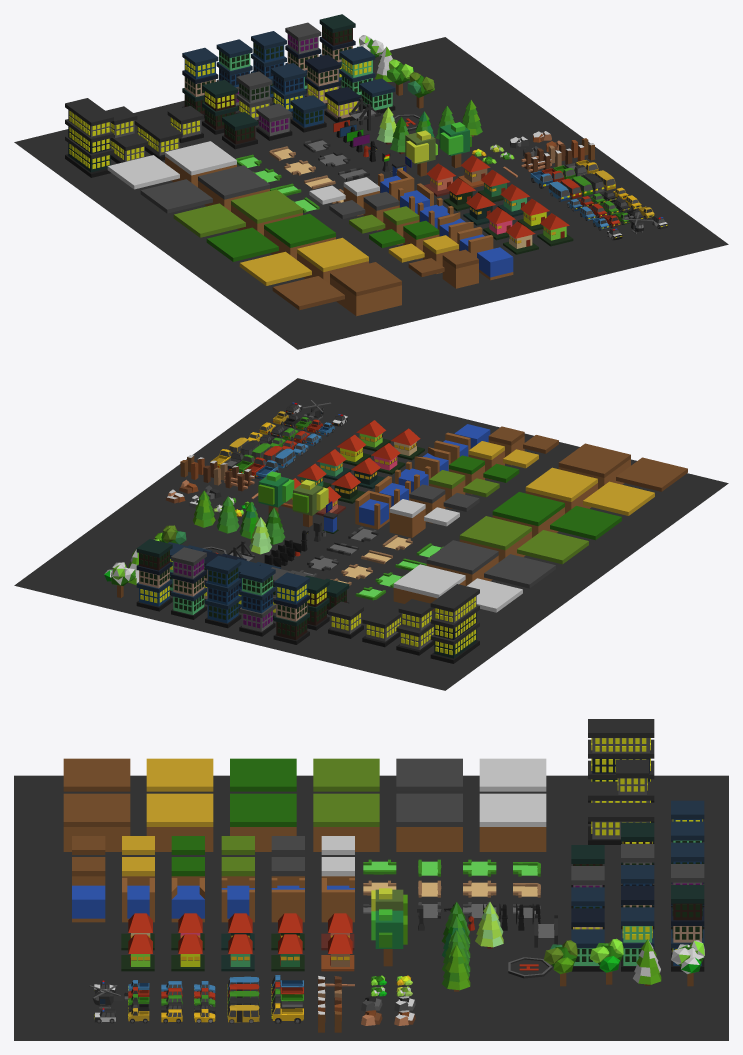
File: Platformer assets.fbx
3 views of the same model, one above another, from view 1: azimuth 30°, elevation 25°; view 2: azimuth 150°, elevation 25°; view 3: azimuth 270°, elevation 25° (orthographic). The views are drawn at different scales.
Parts seen in each view (by area): view 1: Plane, Building15, 4_Cube_soil, 4_Cube_yellowgrass, 4_Cube_rock, 4_Cube_sand, 4_Cube_grass, 4_Cube_snow, Building11, Building17, 4_Plane_sand, 4_Plane_soil (+46 smaller); view 2: Plane, Building15, Building13, Building11, Building14, Building16, Building12, 4_Cube_rock, 4_Cube_yellowgrass, 4_Cube_grass, 4_Cube_sand, 4_Cube_soil (+35 smaller); view 3: Plane, 4_Cube_snow, 4_Cube_rock, Building15, 4_Cube_yellowgrass, 4_Cube_soil, 4_Cube_sand, 4_Cube_grass, 4_Plane_soil, 4_Plane_sand, 4_Plane_snow, 4_Plane_grass (+57 smaller).
Part boxes in pixels (x1,y1,x2,y2): Plane: (14,37,728,349); Building15: (65,98,113,177); 4_Cube_soil: (330,262,401,316); 4_Cube_yellowgrass: (231,189,302,235); 4_Cube_rock: (198,165,269,211); 4_Cube_sand: (297,237,368,283); 4_Cube_grass: (264,213,335,259); 4_Cube_snow: (165,141,236,187); Building11: (182,47,218,118); Building17: (105,106,148,163); 4_Plane_sand: (239,251,311,285); 4_Plane_soil: (272,276,344,310); Plane: (14,378,728,690); Building15: (430,584,479,663); Building13: (205,555,241,628); Building11: (273,572,309,644); Building14: (171,547,206,619); Building16: (136,539,172,611); Building12: (239,564,275,636); 4_Cube_rock: (426,540,498,585); 4_Cube_yellowgrass: (459,516,531,561); 4_Cube_grass: (492,492,564,537); 4_Cube_sand: (525,467,597,513); 4_Cube_soil: (558,443,630,489); Plane: (14,775,728,1040); 4_Cube_snow: (479,793,546,851); 4_Cube_rock: (396,793,462,851); Building15: (588,719,654,802); 4_Cube_yellowgrass: (313,793,379,851); 4_Cube_soil: (63,793,130,851); 4_Cube_sand: (146,793,213,851); 4_Cube_grass: (230,793,296,851); 4_Plane_soil: (63,758,130,791); 4_Plane_sand: (146,758,213,791); 4_Plane_snow: (479,758,546,791); 4_Plane_grass: (230,758,296,791).
Bounding box in the file's own units: 3772 × 495 × 4296.
Materials: 1 (1 with a texture image).
